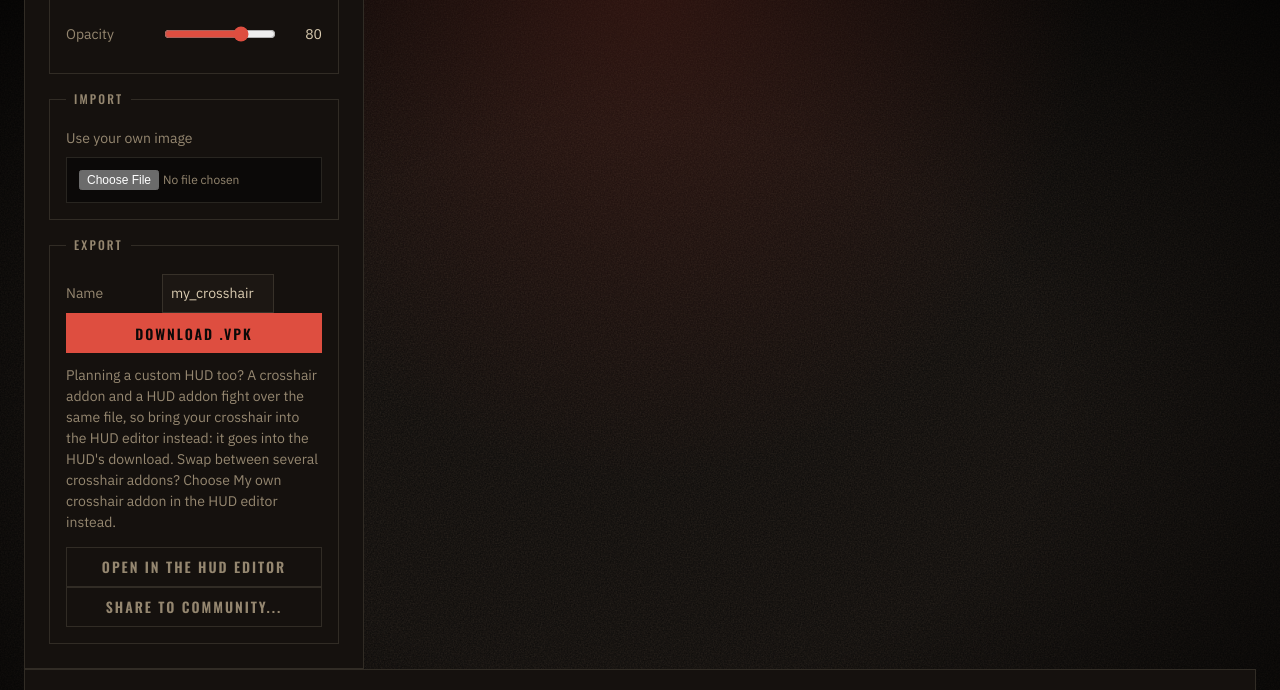
Test: Crosshair page › downloads a saved image straight after a reload, before the page has decoded it again
(page scrolled)
Click the button "Download .vpk".
click(194, 333)  # box [66,313,322,353]
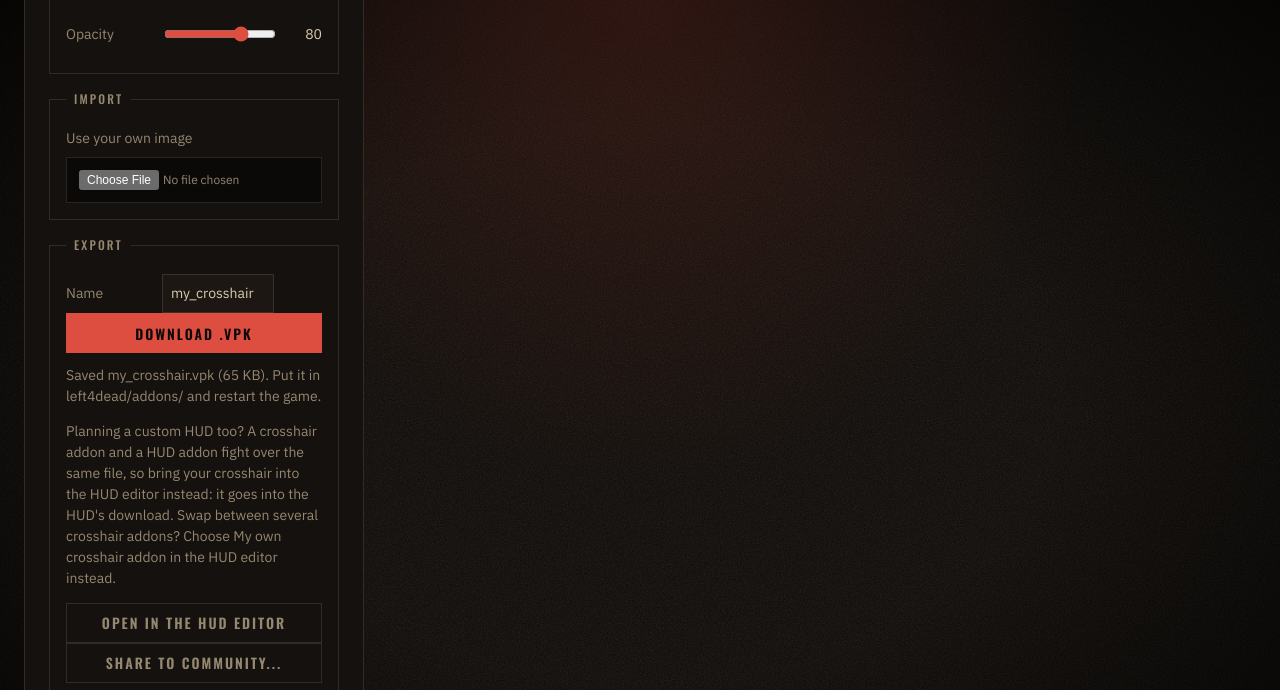
expect the text "Saved " is shown: met, box [66,366,321,405]
